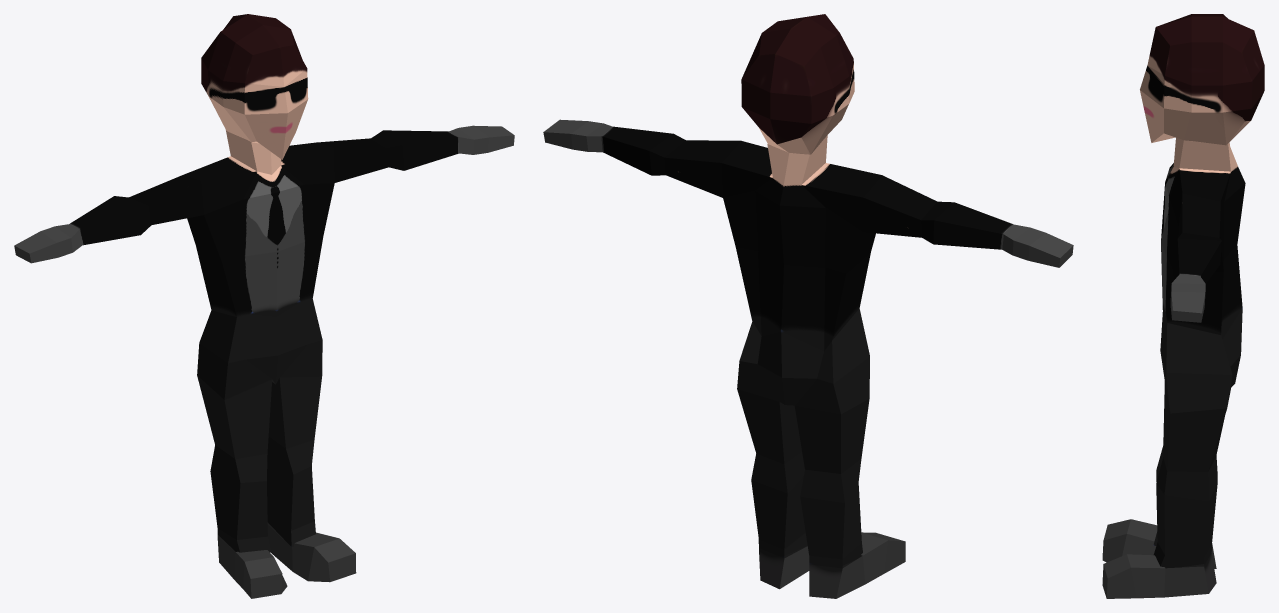
Rendered from mrsessomodel.fbx.
The picture shows the model from 3 angles, left to right: view 1: azimuth 30°, elevation 25°; view 2: azimuth 150°, elevation 25°; view 3: azimuth 270°, elevation 25°; orthographic projection. The views are drawn at different scales.
Visible parts, largest first — view 1: Player; view 2: Player; view 3: Player.
Boxes of the visible parts, x1,y1,x2,y2 form: Player: (14, 14, 514, 598); Player: (543, 14, 1073, 598); Player: (1102, 14, 1264, 598).
Bounding box in the file's own units: 1255 × 1315 × 345.
Materials: 1 (1 with a texture image).
